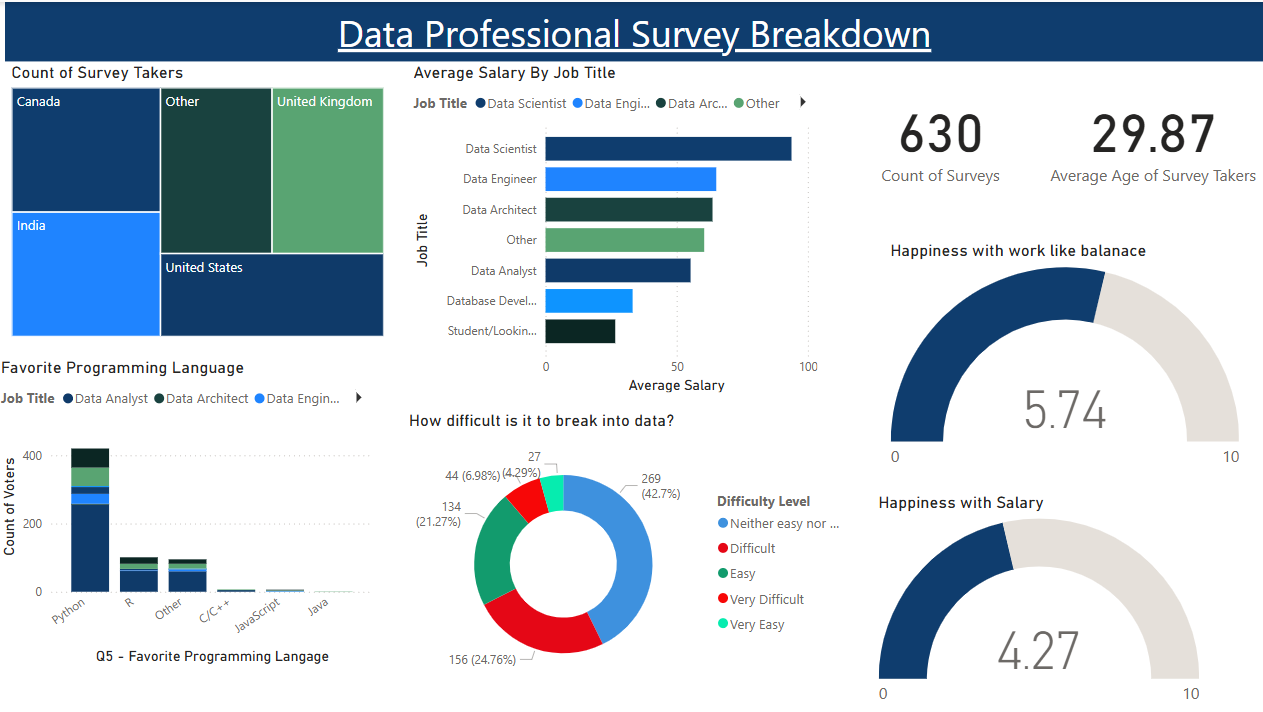

What the dashboard file says about the page in this screenshot:
{"tool":"powerbi","page":{"name":"Page 1","canvas":[1280,720],"ordinal":0},"visuals":[{"type":"textbox","box":[9.7,0,1271.1,59.9],"z":0},{"type":"card","fields":{"Values":["CountNonNull(Data Professional Survey.Unique ID)"]},"box":[852.4,60,201.2,150],"z":1000},{"type":"card","fields":{"Values":["Avg(Data Professional Survey.Q10 - Current Age)"]},"box":[1053.5,60,227.6,150],"z":2000},{"type":"barChart","title":"Average Salary By Job Title","fields":{"Category":["Data Professional Survey.Q1 - Which Title Best Fits your Current Role?.1"],"Y":["Avg(Data Professional Survey.Average Salary)"],"Series":["Data Professional Survey.Q1 - Which Title Best Fits your Current Role?.1"]},"box":[416.1,59.9,417.8,338.4],"z":3000},{"type":"columnChart","title":"Favorite Programming Language","fields":{"Category":["Data Professional Survey.Q5 - Favorite Programming Language.1.1"],"Y":["CountNonNull(Data Professional Survey.Unique ID)"],"Series":["Data Professional Survey.Q1 - Which Title Best Fits your Current Role?.1"]},"box":[0,359.5,385.4,314.1],"z":4000},{"type":"treemap","title":"Count of Survey Takers ","fields":{"Group":["Data Professional Survey.Q11 - Which Country do you live in?.1"],"Values":["Count(Data Professional Survey.Q11 - Which Country do you live in?.1)"]},"box":[11.3,59.9,385.4,281.7],"z":5000},{"type":"gauge","title":"Happiness with work like balanace","fields":{"Y":["Avg(Data Professional Survey.Q6 - How Happy are you in your Current Position with the following? (Work/Life Balance))"],"MinValue":["Min(Data Professional Survey.Q6 - How Happy are you in your Current Position with the following? (Work/Life Balance))1"],"MaxValue":["Max(Data Professional Survey.Q6 - How Happy are you in your Current Position with the following? (Work/Life Balance))2"]},"box":[898.2,240,361.8,240],"z":6000},{"type":"gauge","title":"Happiness with Salary","fields":{"Y":["Avg(Data Professional Survey.Q6 - How Happy are you in your Current Position with the following? (Salary))"],"MinValue":["Min(Data Professional Survey.Q6 - How Happy are you in your Current Position with the following? (Salary))"],"MaxValue":["Max(Data Professional Survey.Q6 - How Happy are you in your Current Position with the following? (Salary))"]},"box":[885.9,495.9,333.5,224.1],"z":7000},{"type":"donutChart","title":"How difficult is it to break into data?","fields":{"Category":["Data Professional Survey.Q7 - How difficult was it for you to break into Data?"],"Y":["CountNonNull(Data Professional Survey.Q7 - How difficult was it for you to break into Data?)"]},"box":[411.3,411.3,455,289.8],"z":8000}]}

Visuals, with their boxes in screenshot pixels (x1, y1, x2, y2), scaled from the page's 1280x720 canvas onto the 1263x712 screenshot:
textbox: pyautogui.locateOnScreen(10, 0, 1262, 59)
card - CountNonNull(Data Professional Survey.Unique ID): pyautogui.locateOnScreen(841, 59, 1040, 208)
card - Avg(Data Professional Survey.Q10 - Current Age): pyautogui.locateOnScreen(1040, 59, 1262, 208)
"Average Salary By Job Title" barChart: pyautogui.locateOnScreen(411, 59, 823, 394)
"Favorite Programming Language" columnChart: pyautogui.locateOnScreen(0, 356, 380, 666)
"Count of Survey Takers " treemap: pyautogui.locateOnScreen(11, 59, 391, 338)
"Happiness with work like balanace" gauge: pyautogui.locateOnScreen(886, 237, 1243, 475)
"Happiness with Salary" gauge: pyautogui.locateOnScreen(874, 490, 1203, 711)
"How difficult is it to break into data?" donutChart: pyautogui.locateOnScreen(406, 407, 855, 693)
